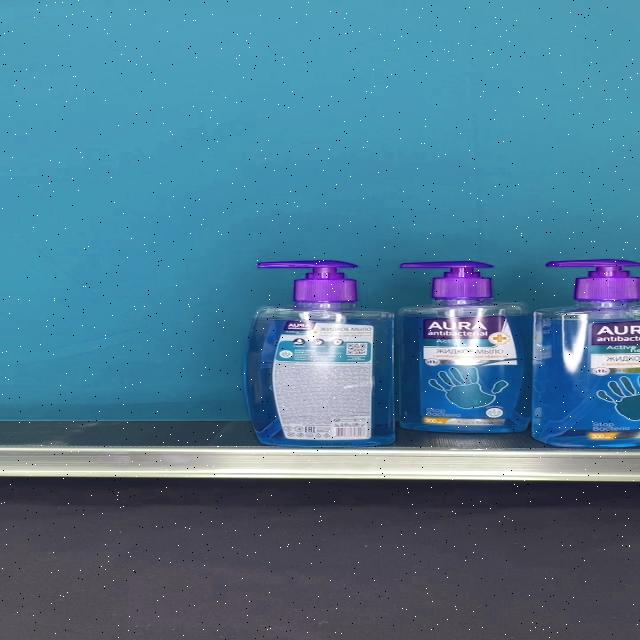Bottle: (246, 261, 395, 447), (396, 260, 534, 432)
Cap: (257, 260, 357, 304), (400, 261, 493, 301)
